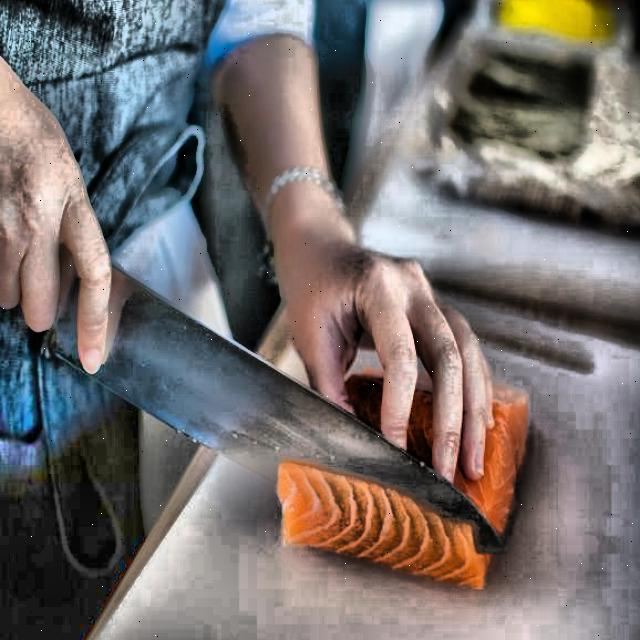knife: (0, 234, 512, 560)
